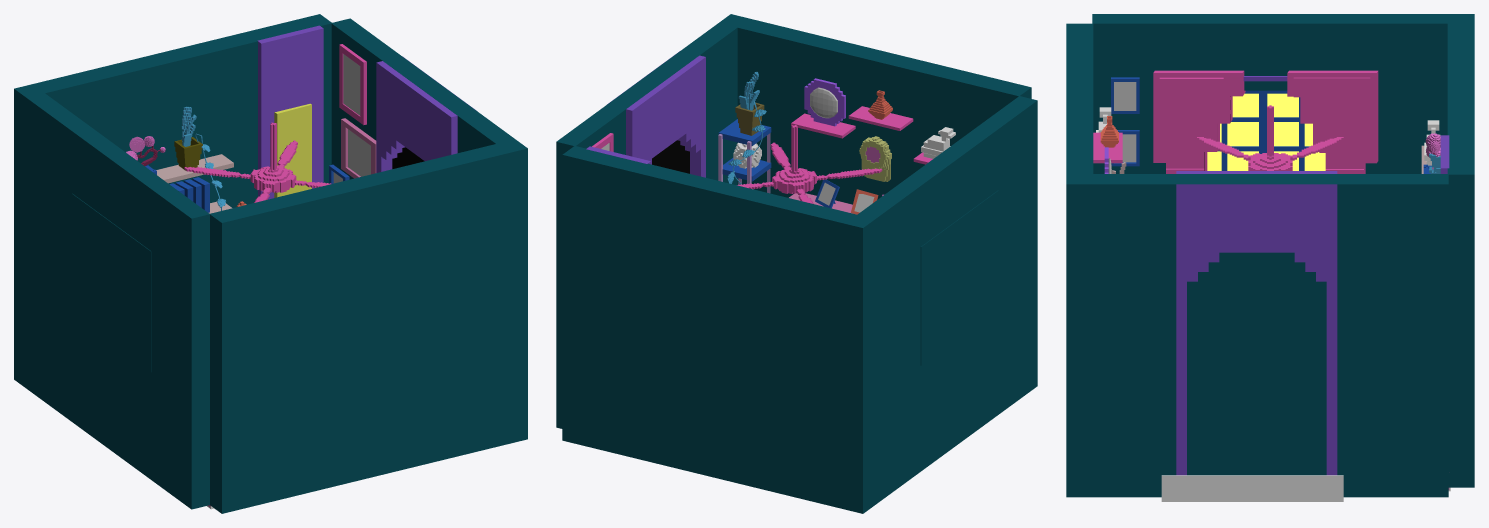
Rendered from Nivel tutorial color 1.fbx.
The picture shows the model from 3 angles, left to right: view 1: azimuth 30°, elevation 25°; view 2: azimuth 150°, elevation 25°; view 3: azimuth 270°, elevation 25°; orthographic projection. The views are drawn at different scales.
Visible parts, largest first — view 1: Pared base.001, Pared base.003, columna, marcos puertas, espejo, ventilador, Cuadrito, estanteria, 360_F_382903986_Wnt0Hu6JLyBI6yaf7ZUgOycQyP7kX8ru, Cuadrito.002, images (1).004, libro.002 (+2 smaller); view 2: Pared base.003, Pared base.001, marcos puertas, ventilador, Estanteria, reloj, Cube.009, Plane, Enstanteria pared.001, Enstanteria pared, Cube.010, Pato de vidrio.001 (+2 smaller); view 3: Pared base.001, Pared base.003, marcos puertas, COrtina izquierda, COrtina derecha, ventana, Piso living.001, ventilador, cuadrito, original, Enstanteria pared.001.
Boxes of the visible parts, x1,y1,x2,y2 form: Pared base.001: [210, 18, 527, 513]; Pared base.003: [14, 14, 331, 509]; columna: [257, 25, 323, 199]; marcos puertas: [376, 57, 474, 172]; espejo: [274, 103, 311, 197]; ventilador: [184, 122, 331, 202]; Cuadrito: [339, 44, 366, 125]; estanteria: [156, 154, 233, 213]; 360_F_382903986_Wnt0Hu6JLyBI6yaf7ZUgOycQyP7kX8ru: [343, 54, 360, 115]; Cuadrito.002: [341, 118, 376, 178]; images (1).004: [348, 129, 370, 176]; libro.002: [169, 177, 209, 212]; Pared base.003: [562, 96, 1037, 513]; Pared base.001: [556, 14, 1031, 428]; marcos puertas: [607, 51, 705, 177]; ventilador: [737, 125, 882, 203]; Estanteria: [718, 119, 771, 181]; reloj: [859, 136, 891, 181]; Cube.009: [804, 78, 845, 126]; Plane: [652, 140, 689, 173]; Enstanteria pared.001: [848, 106, 913, 130]; Enstanteria pared: [791, 113, 855, 138]; Cube.010: [810, 87, 837, 118]; Pato de vidrio.001: [921, 127, 955, 158]; Pared base.001: [1066, 23, 1448, 497]; Pared base.003: [1092, 14, 1474, 487]; marcos puertas: [1176, 171, 1337, 475]; COrtina izquierda: [1153, 70, 1245, 173]; COrtina derecha: [1287, 70, 1378, 173]; ventana: [1207, 90, 1325, 170]; Piso living.001: [1161, 475, 1450, 501]; ventilador: [1197, 105, 1343, 170]; cuadrito: [1111, 77, 1139, 166]; original: [1114, 82, 1136, 110]; Enstanteria pared.001: [1093, 132, 1122, 163].
Bounding box in the file's own units: 227 × 208 × 228.
